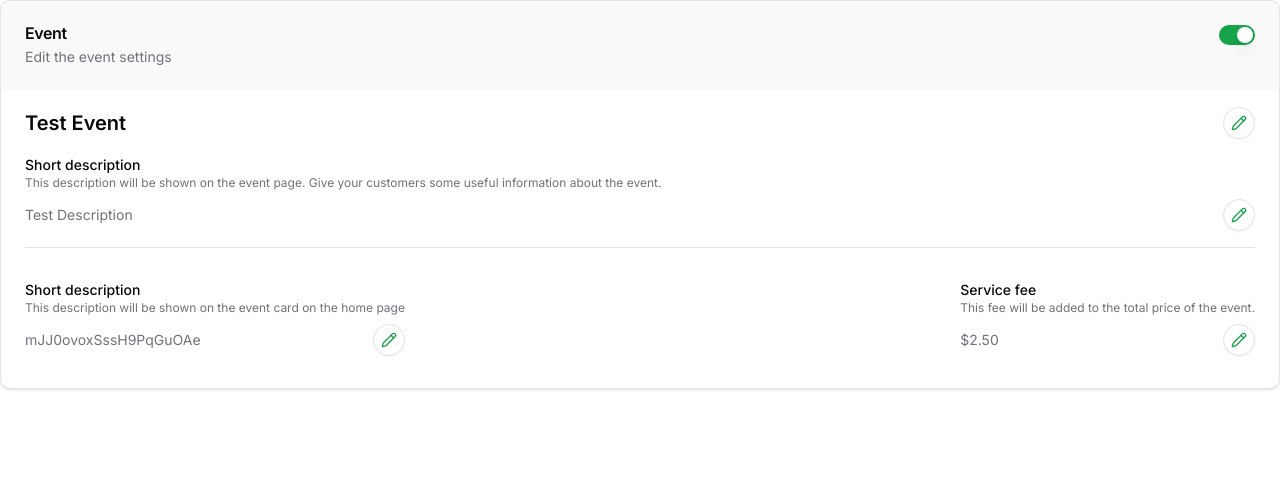
Test case: EventSettingsCard › handles description change
Click the button "Edit event description" in the row of "Test Description" at [1239, 215], box [1223, 199, 1255, 231]
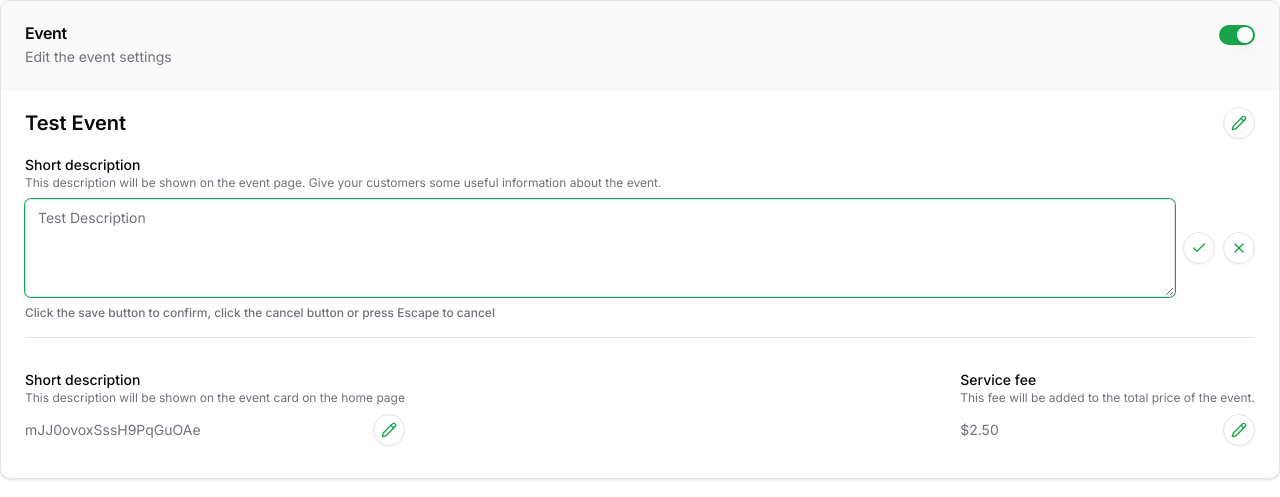
Replace the text in the text box with "Updated Description" at [600, 248], box [25, 199, 1175, 297]
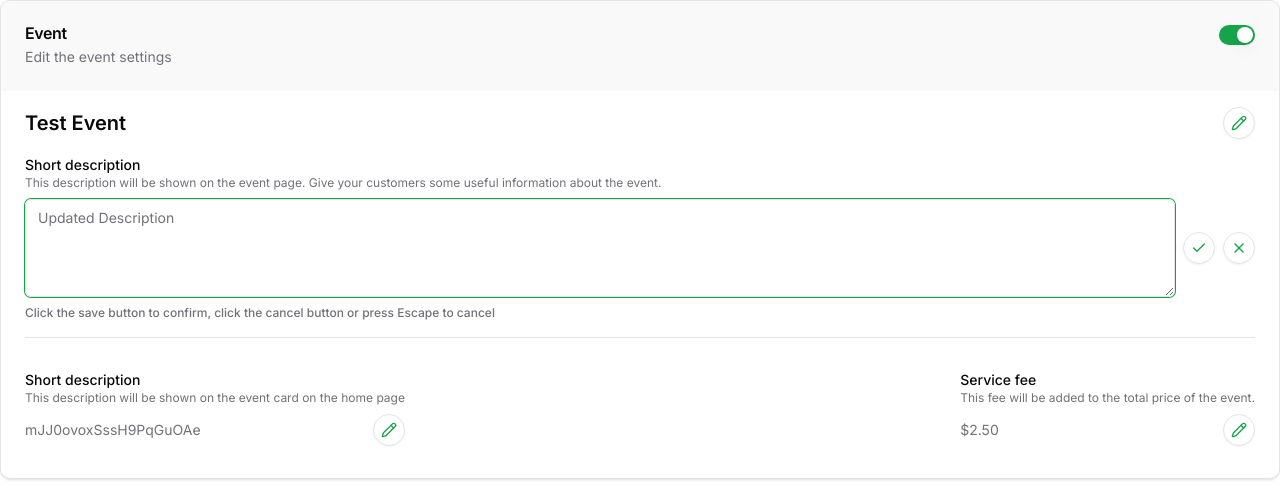
Click the 1st button "Save" at [1199, 248], box [1183, 232, 1215, 264]
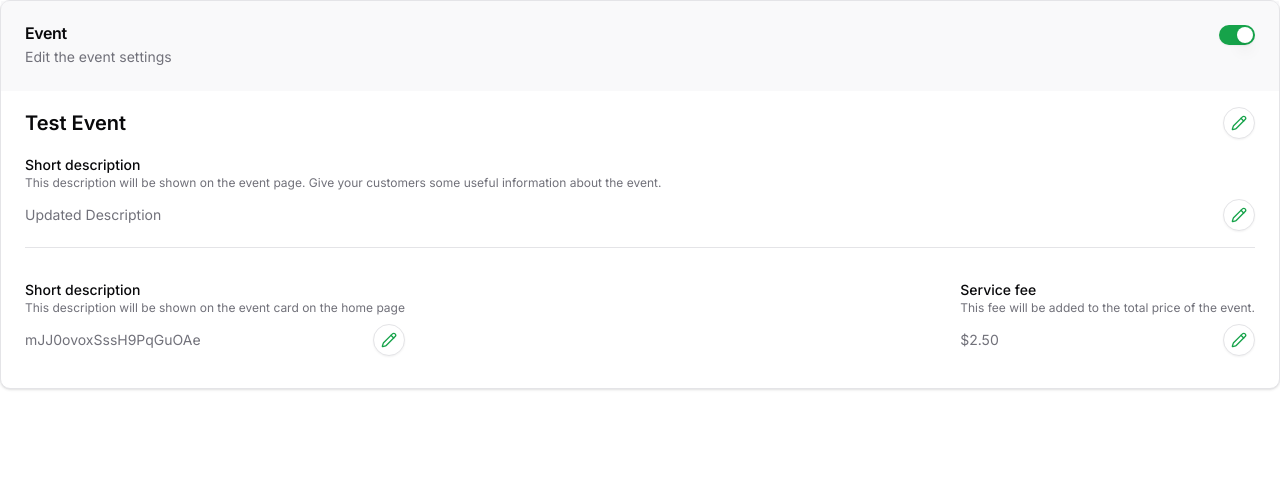
Expected: the text "Updated Description" is shown, [25, 206, 161, 223]
